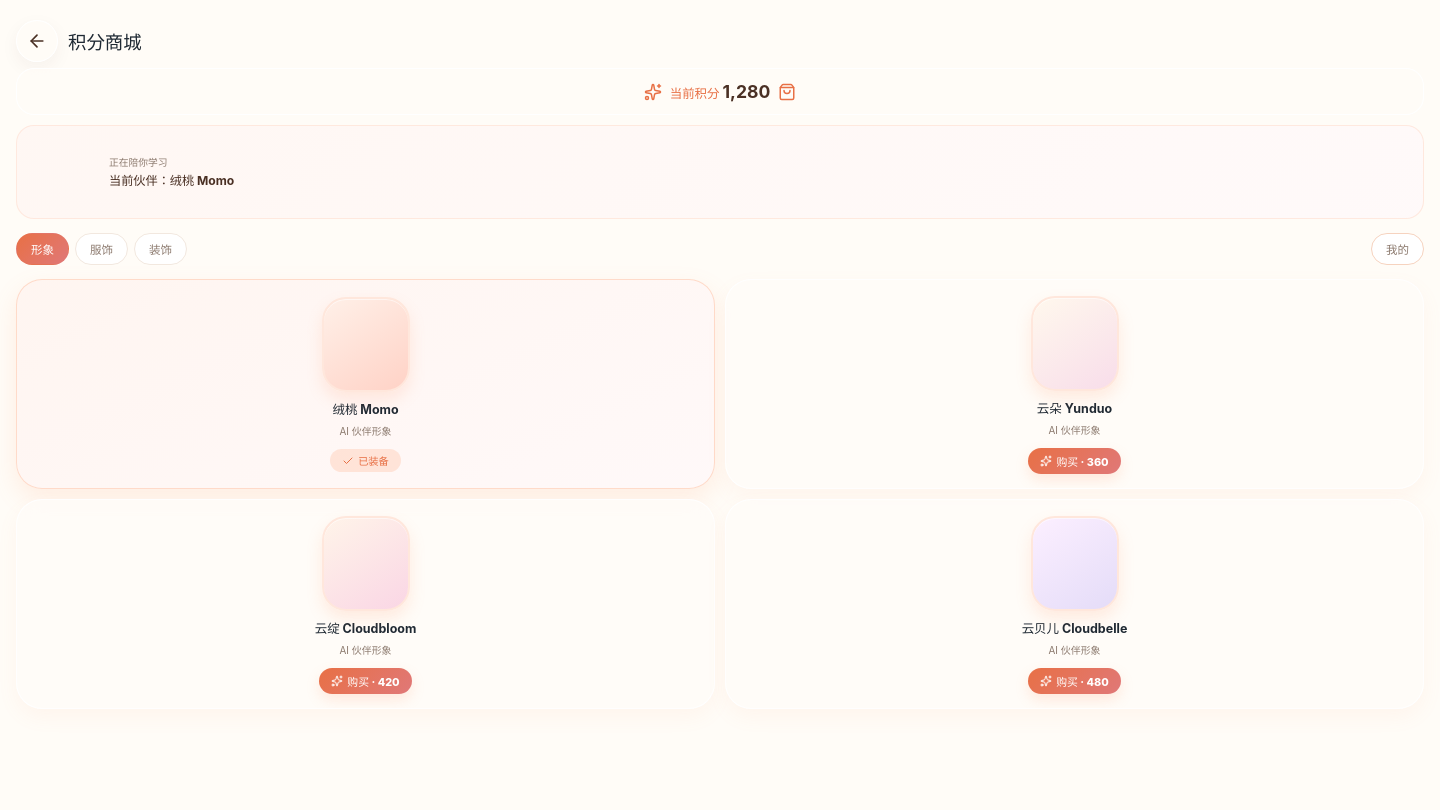
Test: points mall companion catalogue › opens a large preview before offering purchase
This screenshot has width=1440, height=810.
Click the button with aria-label "查看 云朵 Yunduo". click: (1074, 366)
box: 736,295 -> 1413,437
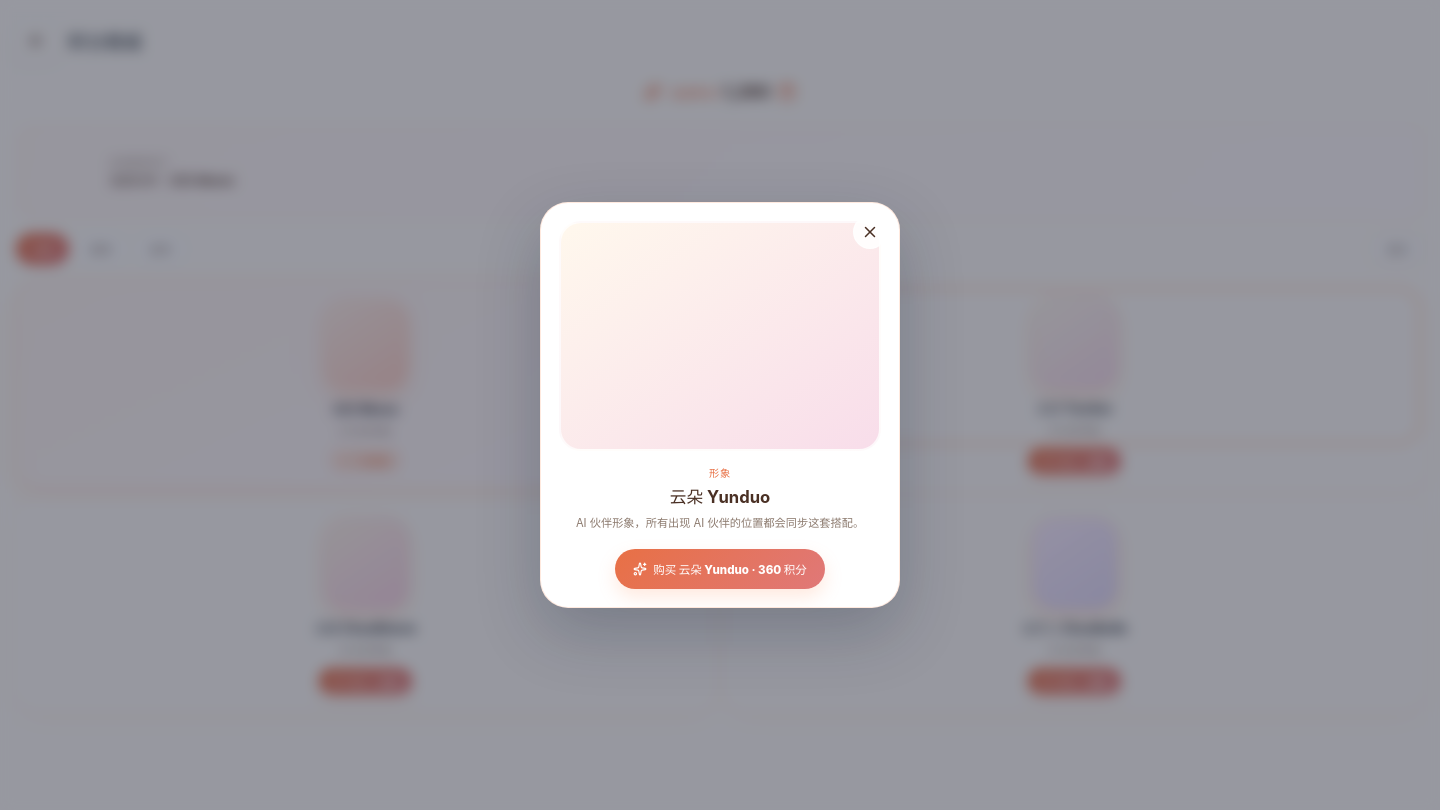
Expected: the dialog named "云朵 Yunduo 商品预览" is shown, 540,202 -> 900,608
Expected: the button "购买 云朵 Yunduo · 360 积分" is shown, 615,549 -> 825,589
